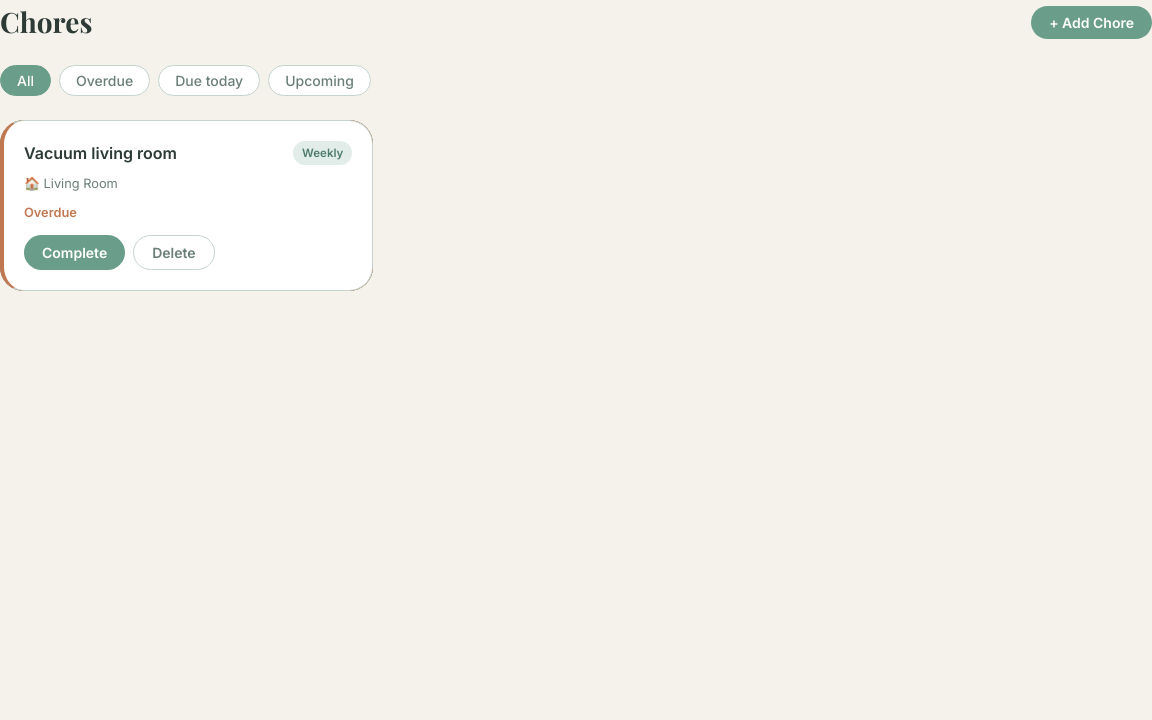
Test: Chores › edit modal › opens edit modal when a chore card is clicked
Click the text "Vacuum living room" at (100,154), box [24,141,177,166]
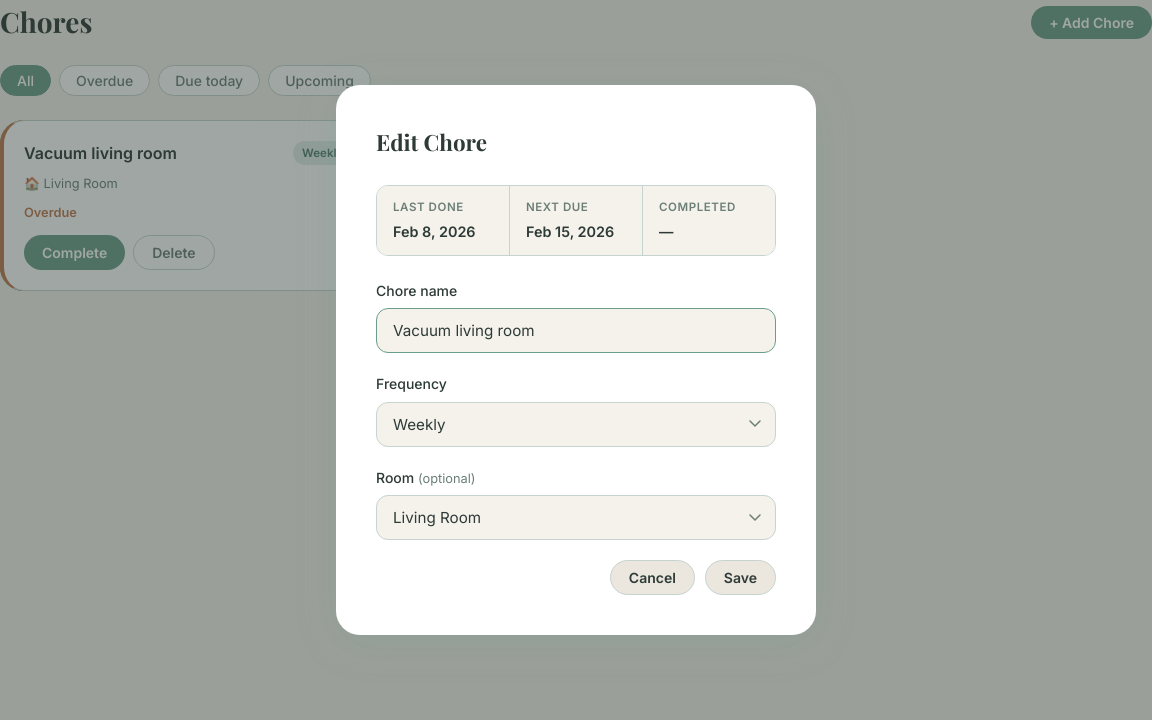
Expected: the heading "Edit Chore" is shown, [376,127,487,157]
